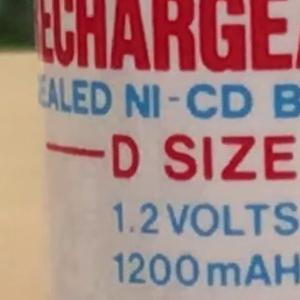NI-CD: (115, 74, 263, 128)
